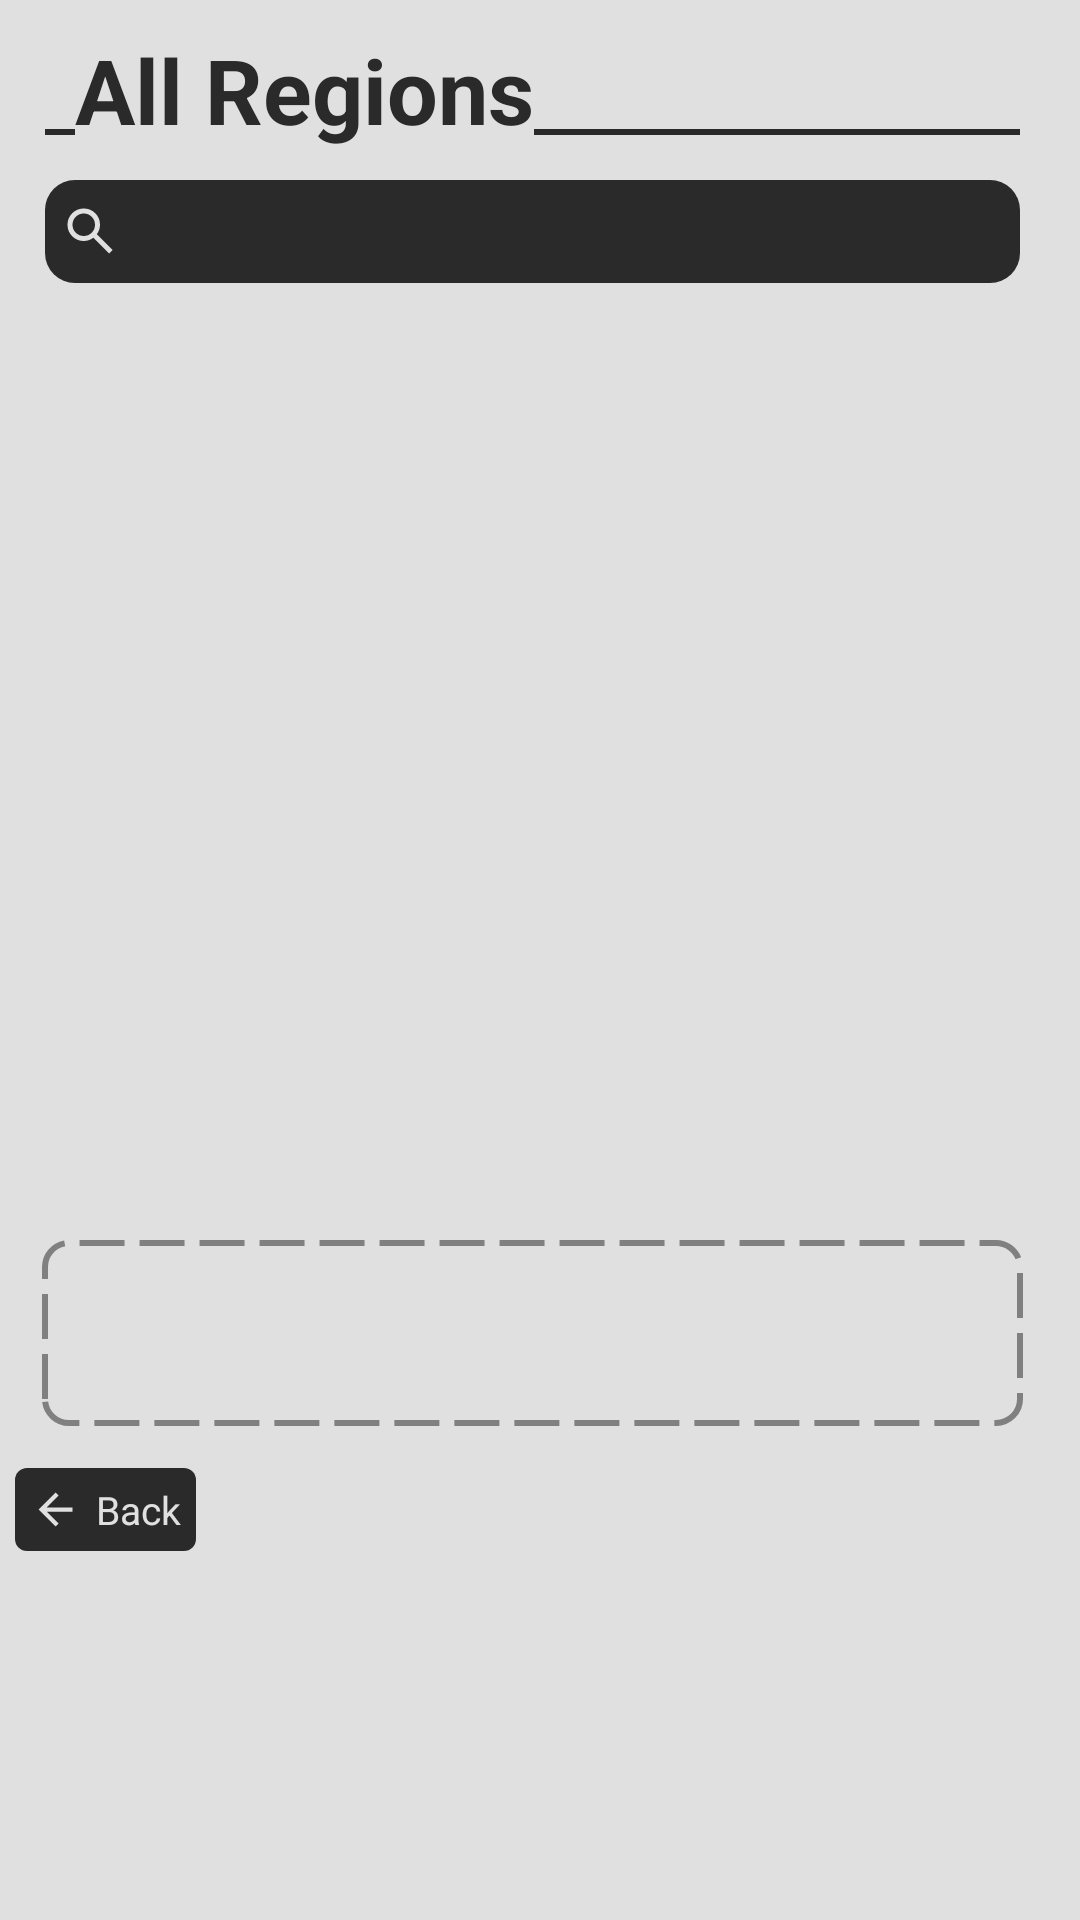

Named icons in this screenshot (1080x1920) and their centers, point (x, y):
search: point (90, 231)
